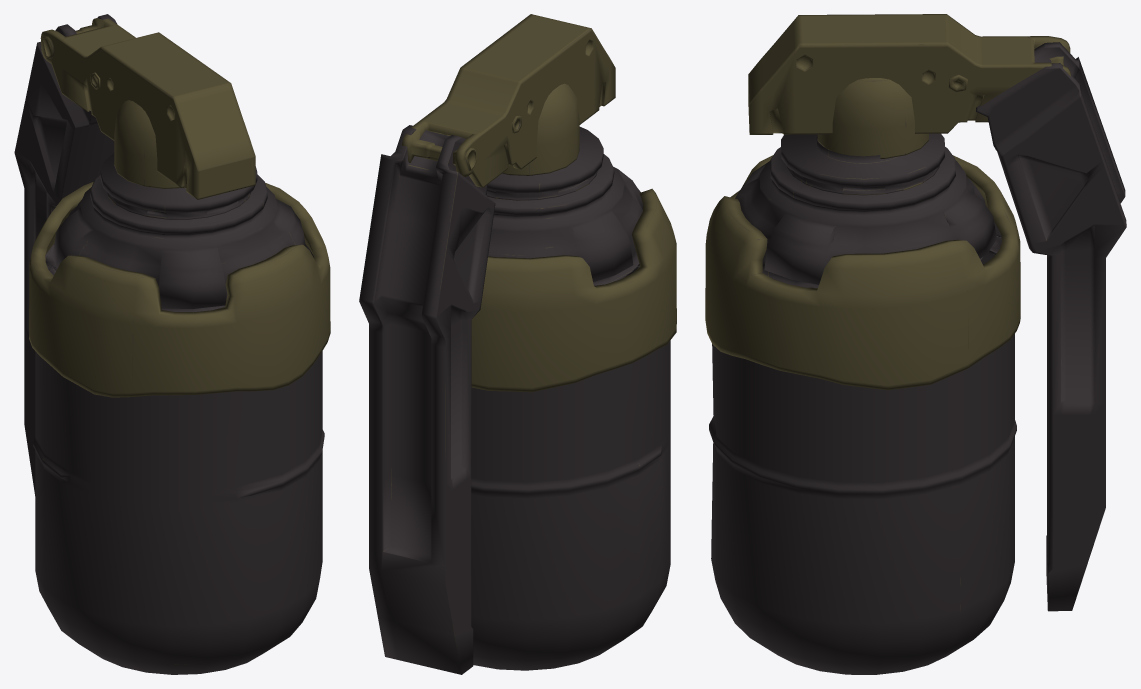
File: grenade.fbx
3 views of the same model, side by side, from view 1: azimuth 30°, elevation 25°; view 2: azimuth 150°, elevation 25°; view 3: azimuth 270°, elevation 25° (orthographic). The views are drawn at different scales.
Parts seen in each view (by area): view 1: Circle.012; view 2: Circle.012; view 3: Circle.012.
Part boxes in pixels (bbox=[...]): Circle.012: bbox=[14, 14, 330, 674]; Circle.012: bbox=[359, 14, 676, 674]; Circle.012: bbox=[705, 14, 1126, 674].
Size of the model in its own units: 0.6852 by 1.47 by 0.9178.
